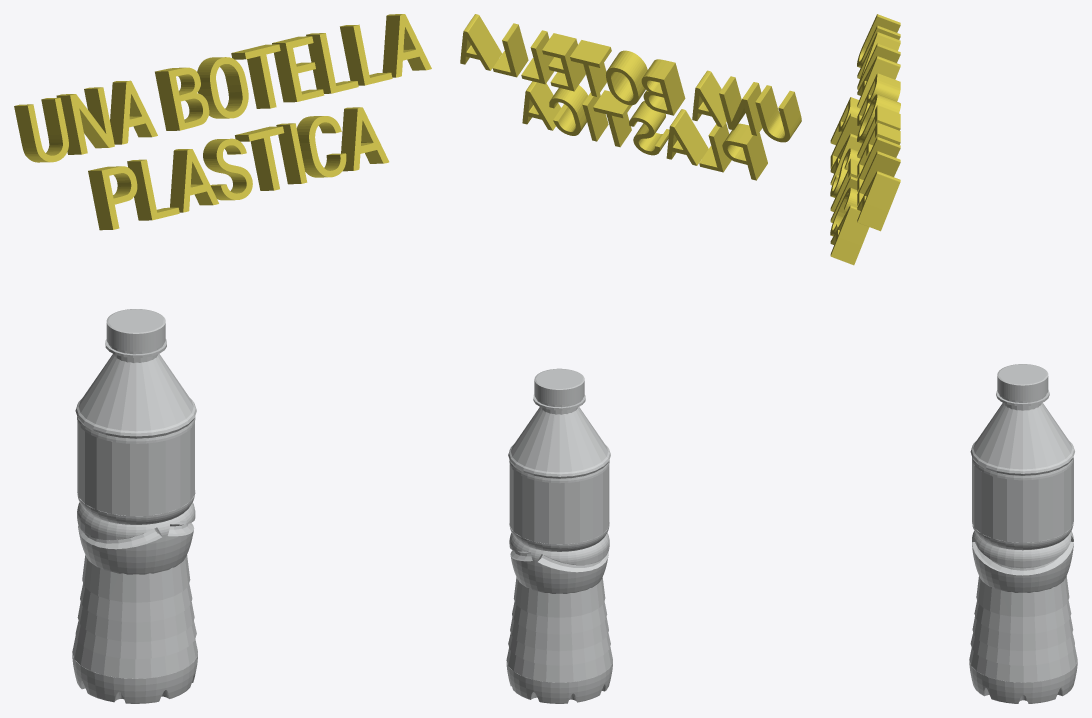
File: asset.glb
3 renders of one model, left to right at view 1: azimuth 30°, elevation 25°; view 2: azimuth 150°, elevation 25°; view 3: azimuth 270°, elevation 25°, orthographic. The views are drawn at different scales.
Parts seen in each view (by area): view 1: Mesh_Mesh_head_geo.001_lambert2SG.001; view 2: Mesh_Mesh_head_geo.001_lambert2SG.001; view 3: Mesh_Mesh_head_geo.001_lambert2SG.001.
Part boxes in pixels (x1,y1,x2,y2): Mesh_Mesh_head_geo.001_lambert2SG.001: (14,14,431,703); Mesh_Mesh_head_geo.001_lambert2SG.001: (460,14,801,703); Mesh_Mesh_head_geo.001_lambert2SG.001: (830,14,1077,703).
Bounding box in the file's own units: 153 × 254 × 96.98.
